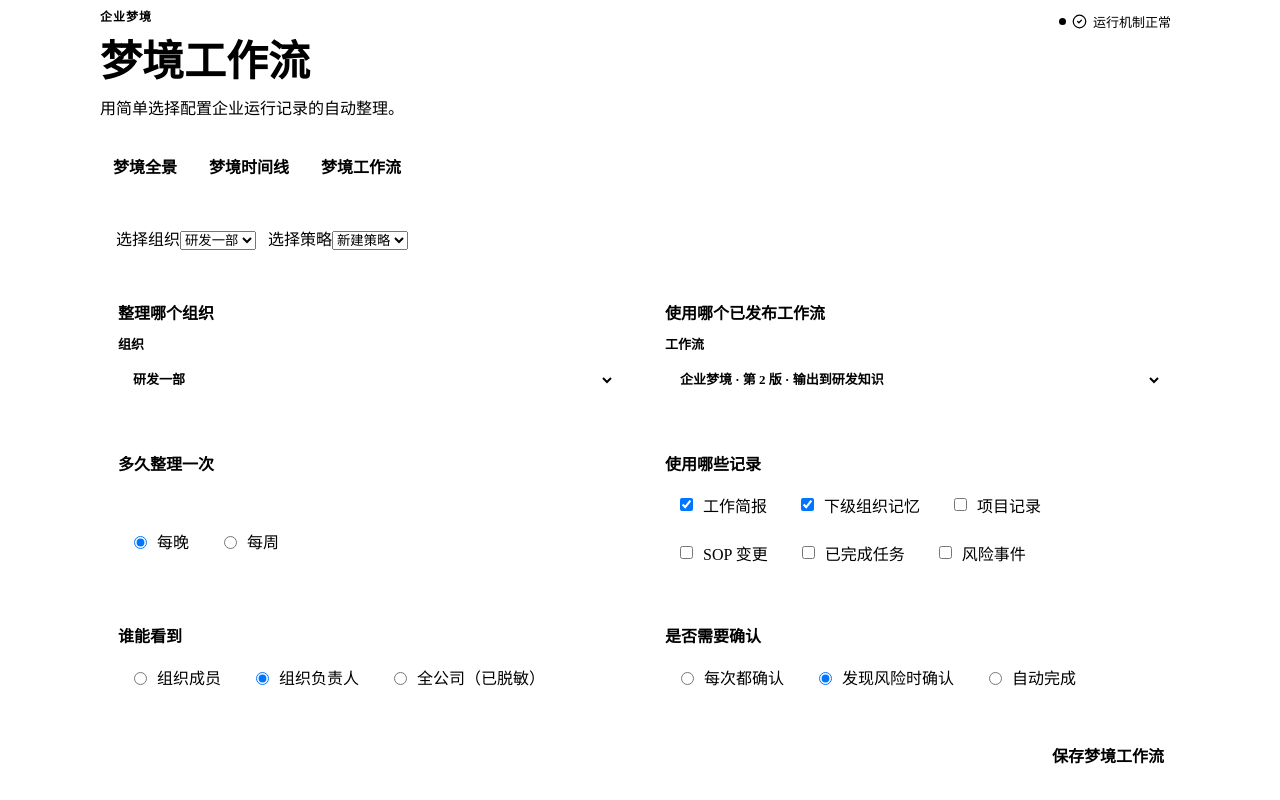
Test case: DreamPolicyPanel › creates a governed draft without tickets or internal identifiers
Click the button "保存梦境工作流" at (1108, 755), box top-left (1036, 733), bottom-right (1180, 777)
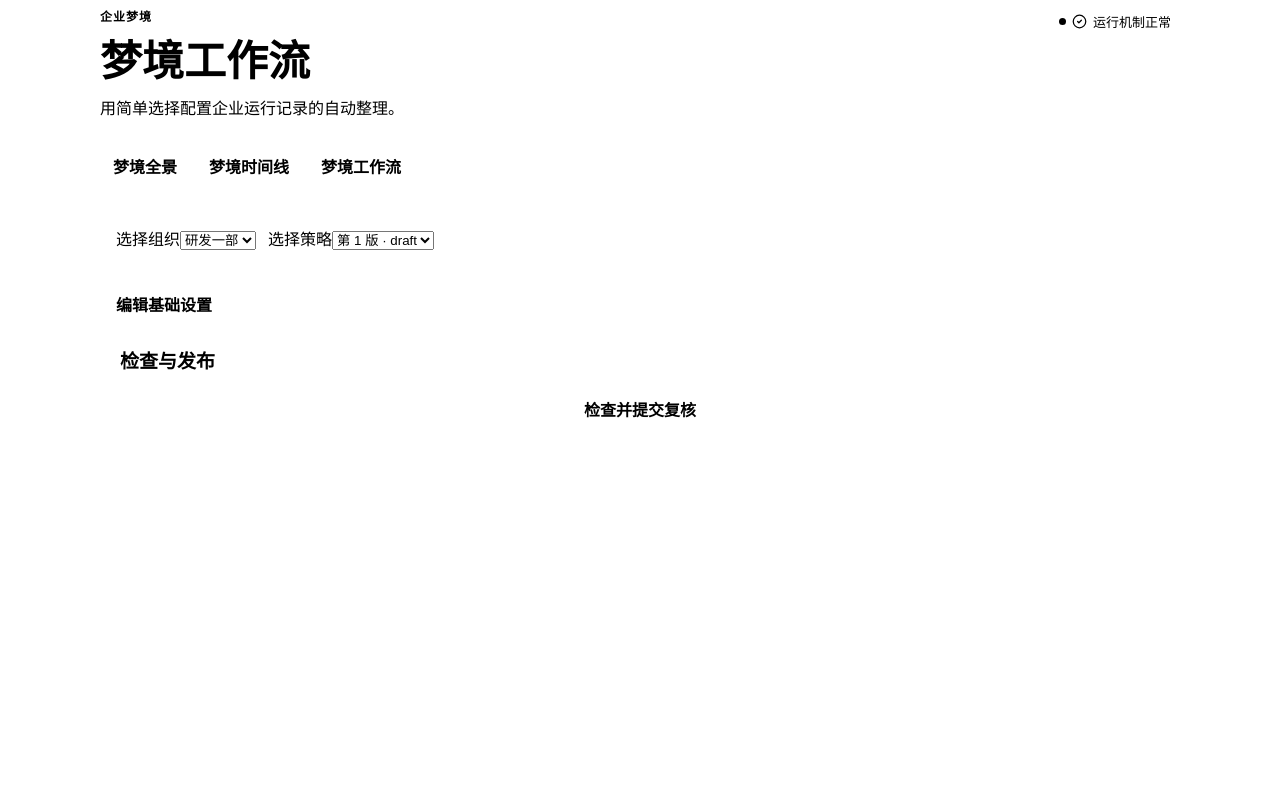
Check: the button "检查并提交复核" is shown, box top-left (120, 387), bottom-right (1160, 431)
